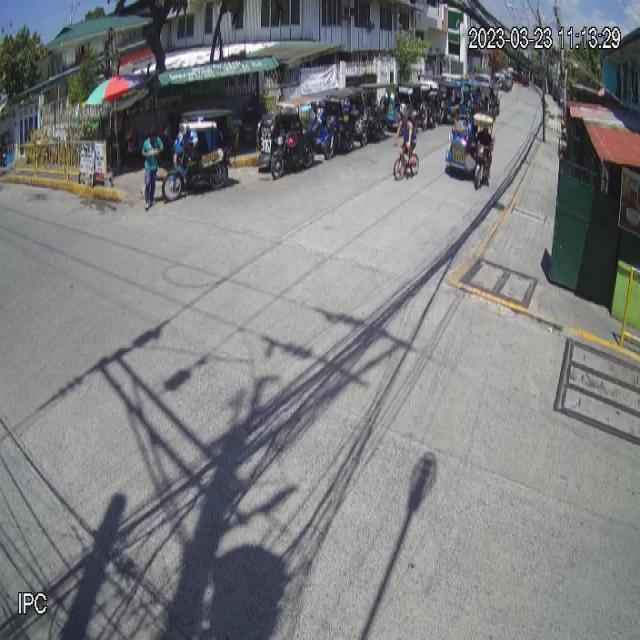Tricycle: (445, 112, 496, 190)
